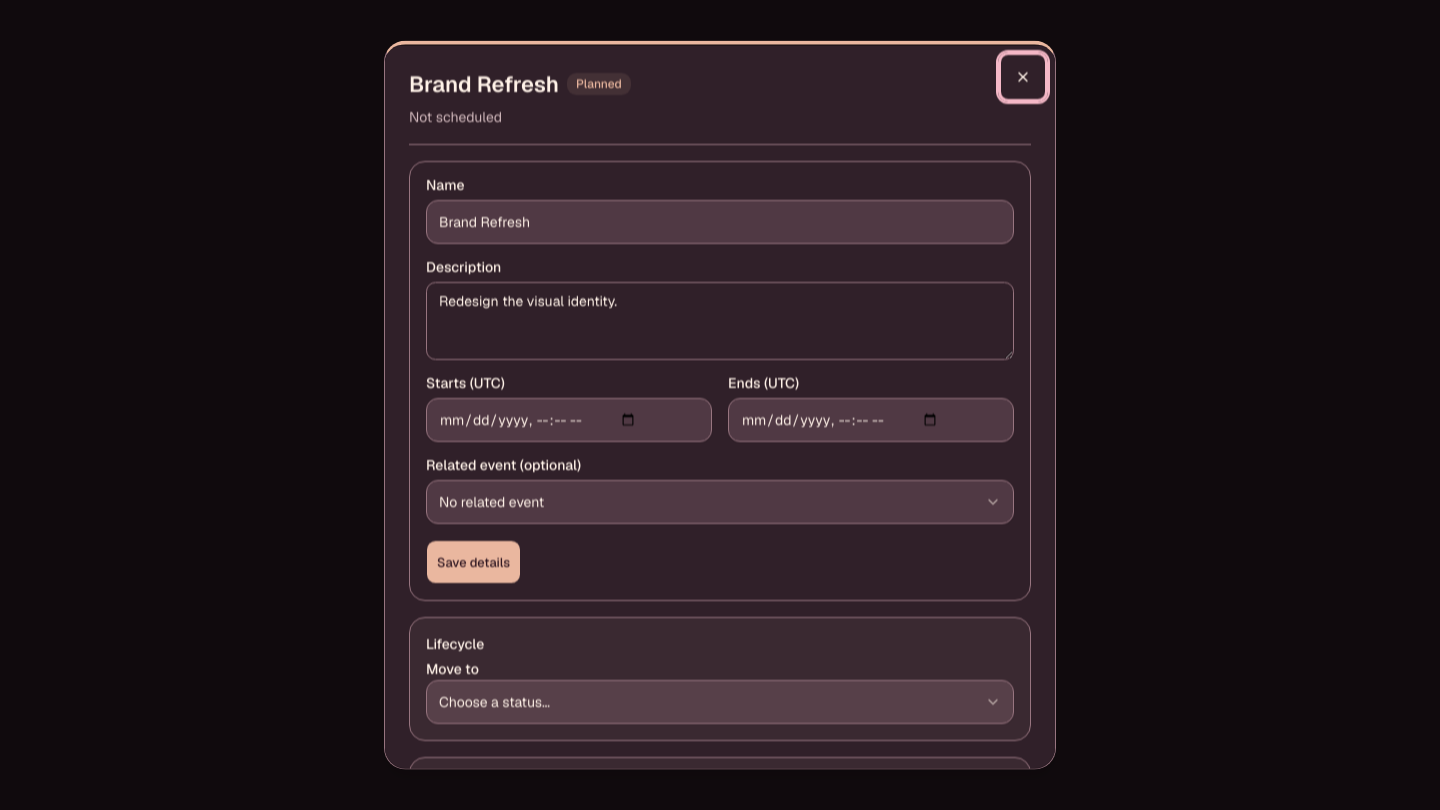
Test: ProjectDetailDialog › surfaces an action error from a failed transition
What coordinates should you click on to do the following:
click the dropdown named "Move to"
I would click on:
 (495, 702)
Its box is [426,680,1014,724].
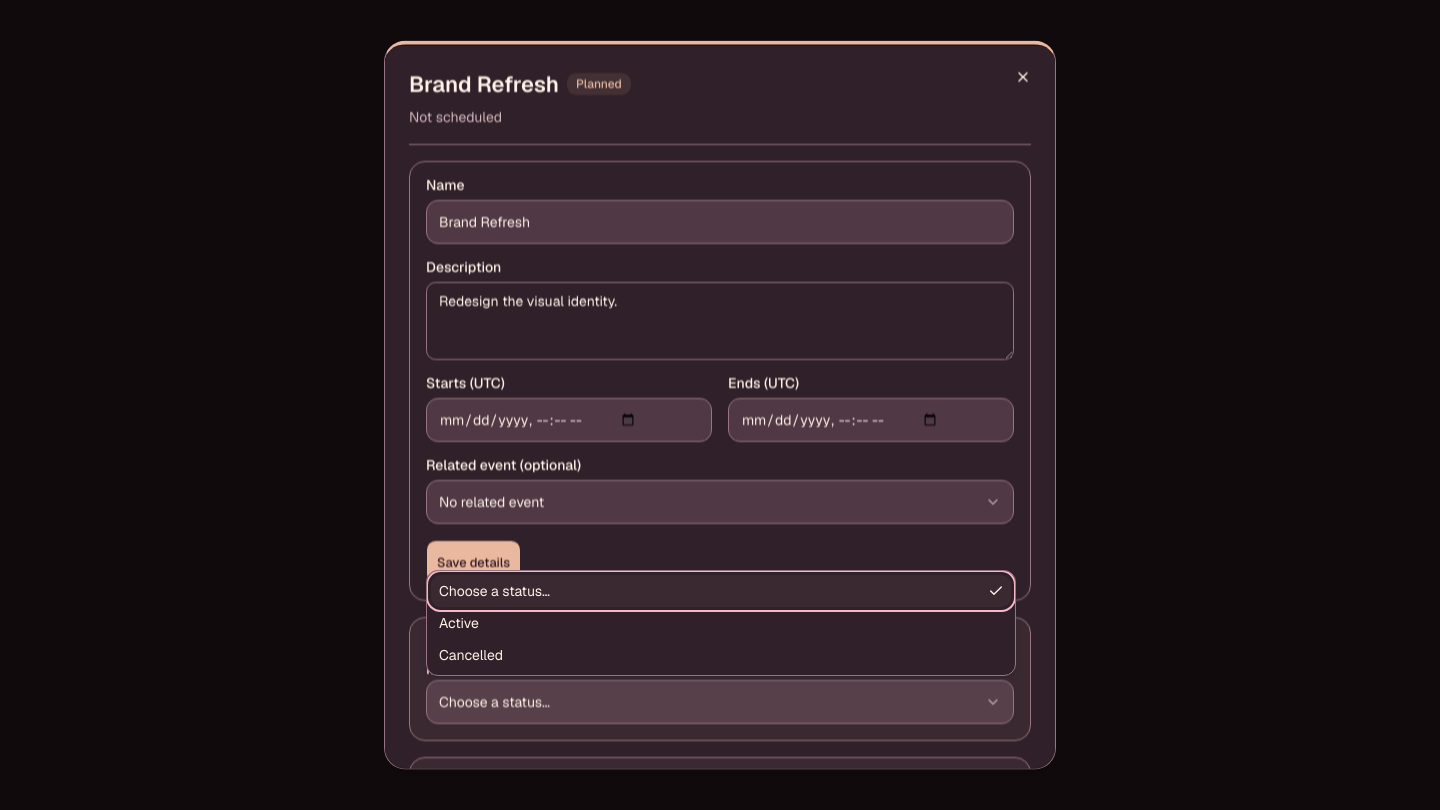
What coordinates should you click on to do the following:
click the option "Active"
I would click on:
 (459, 623)
Its box is [439,614,479,632].
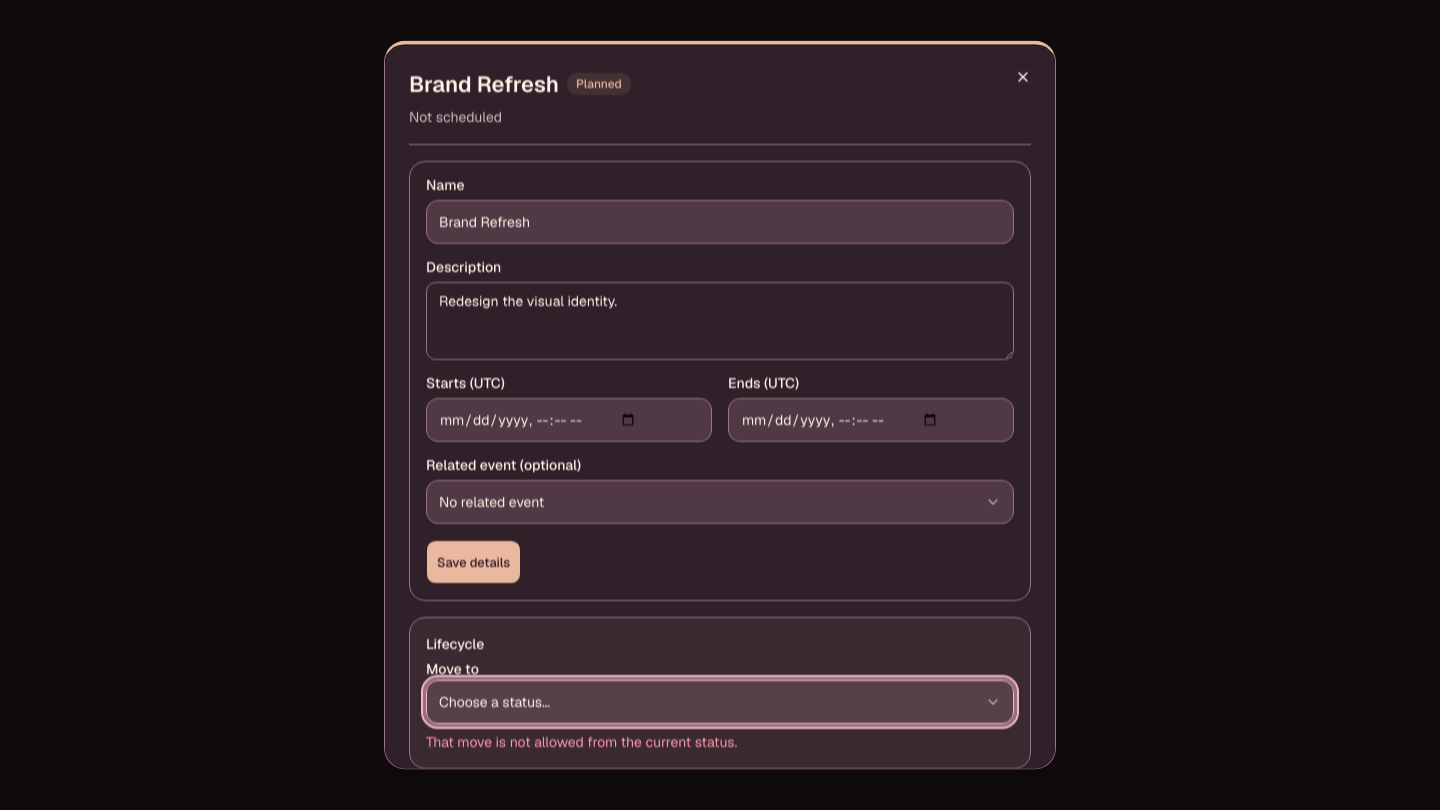
Result: the text "That move is not allowed from the current status." is shown at [426,733,737,751]
